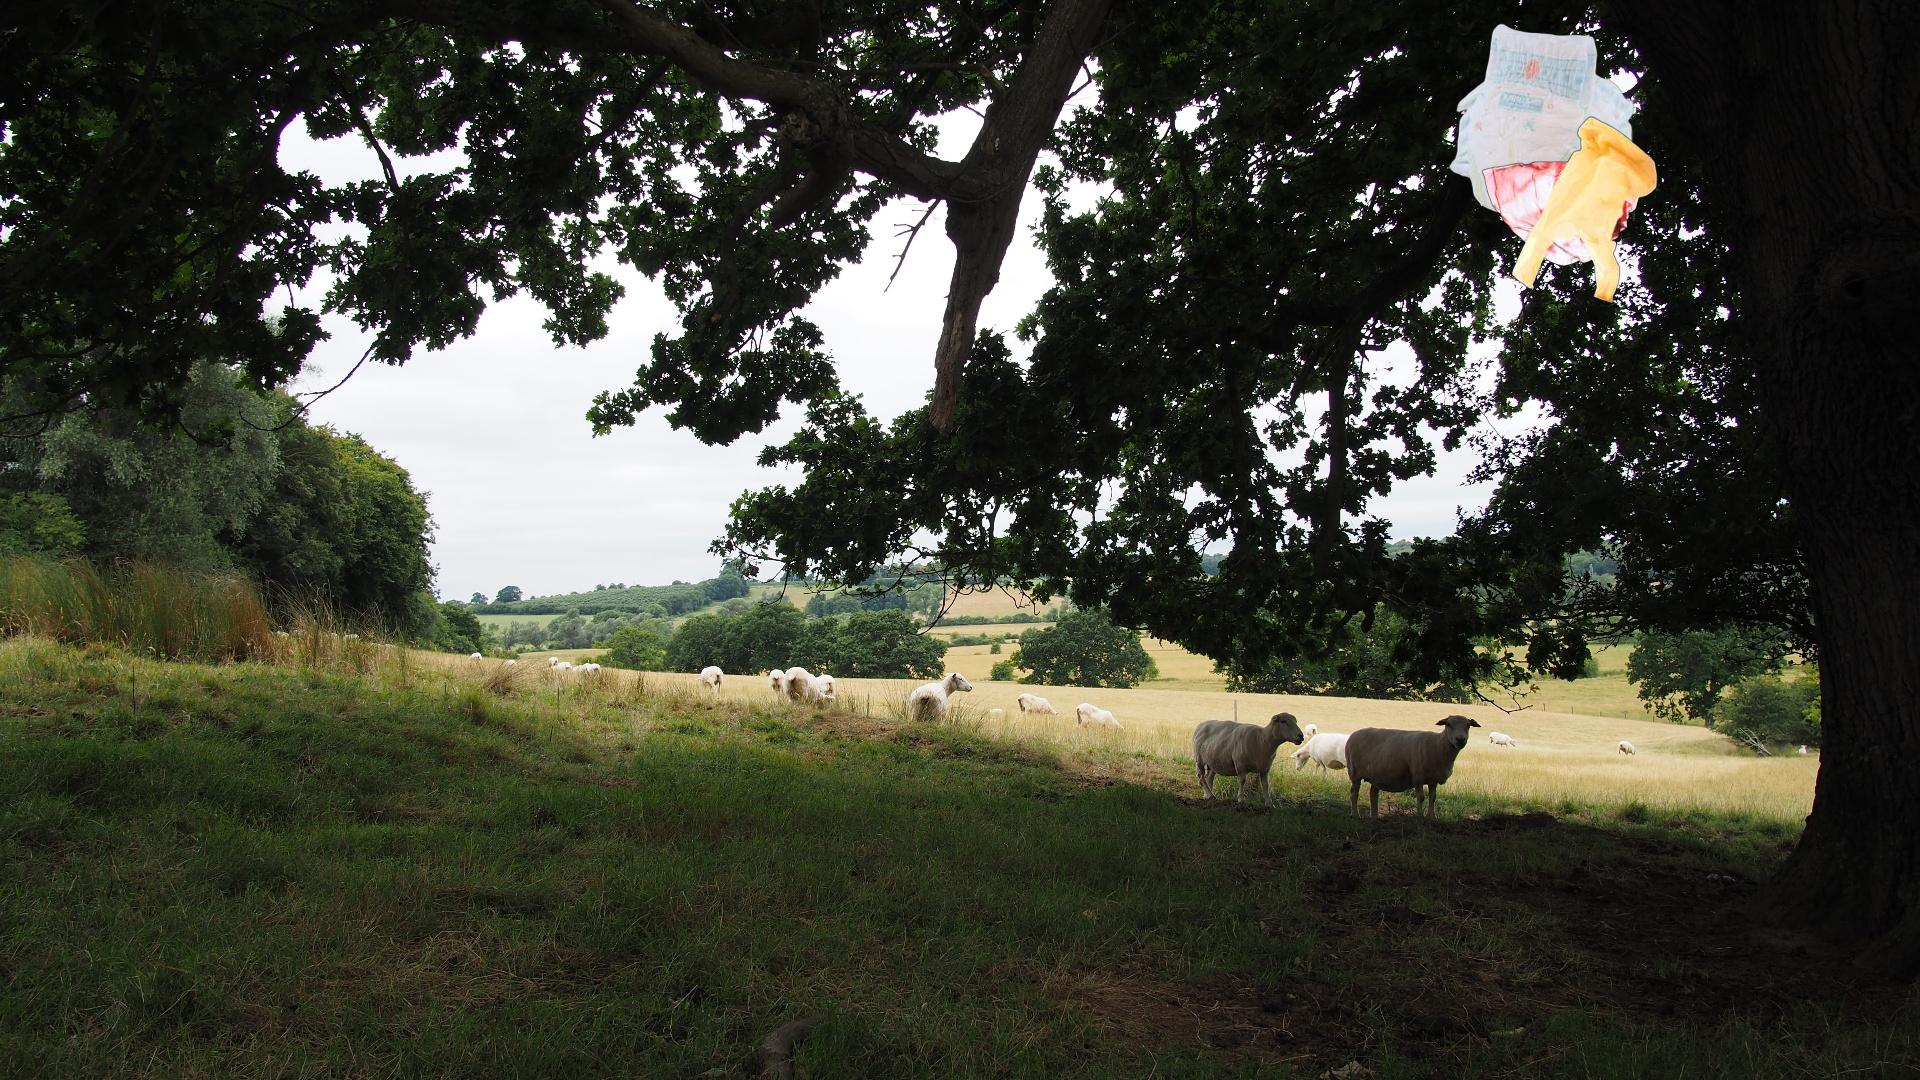plastic-bag: (1480, 113, 1660, 305), (1902, 886, 1920, 1080)
trash: (1447, 21, 1636, 223)
